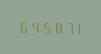eight: (51, 20, 61, 34)
five: (40, 19, 50, 33)
four: (28, 19, 38, 33)
one: (73, 20, 83, 34)
seven: (62, 20, 72, 34)
six: (17, 19, 27, 33)
